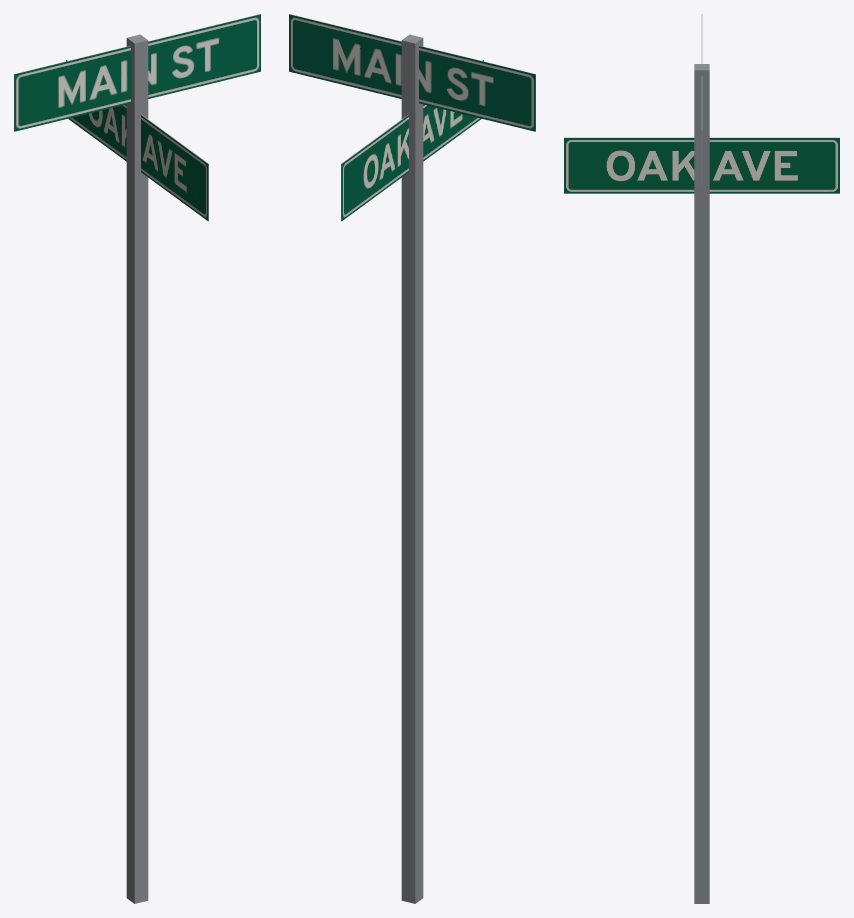
Rendered from sign_street_name_main_st__oak_ave.glb.
3 renders of one model, left to right at view 1: azimuth 30°, elevation 25°; view 2: azimuth 150°, elevation 25°; view 3: azimuth 270°, elevation 25°, orthographic. The views are drawn at different scales.
Parts seen in each view (by area): view 1: sign_street_name_main_st__oak_ave; view 2: sign_street_name_main_st__oak_ave; view 3: sign_street_name_main_st__oak_ave.
Part boxes in pixels (box(x1,y1,x2,y2)): sign_street_name_main_st__oak_ave: box(14, 14, 260, 903); sign_street_name_main_st__oak_ave: box(289, 14, 535, 903); sign_street_name_main_st__oak_ave: box(564, 14, 839, 903).
Size of the model in its own units: 0.9144 by 3.05 by 0.9144.
Materials: 4 (2 with a texture image).
